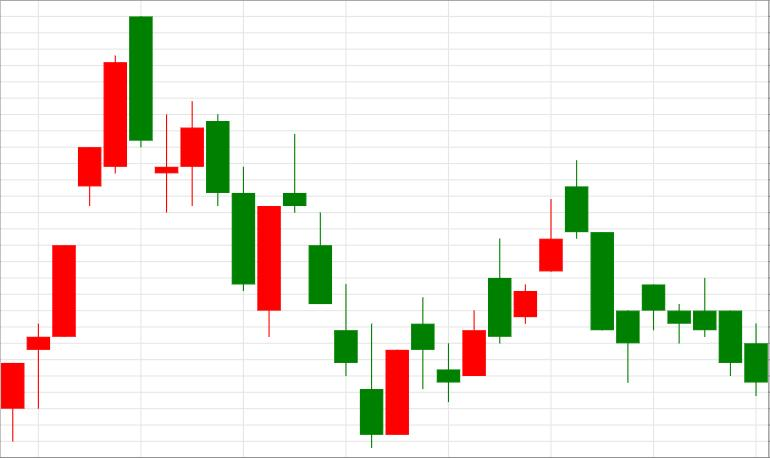inverse_hammer_rise: (284, 134, 383, 448)
shooting_star_fall: (437, 199, 562, 403)
